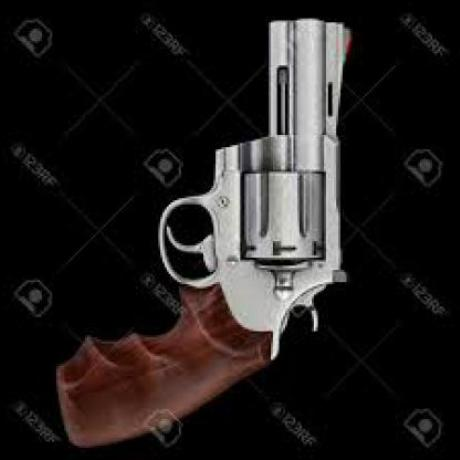weapon: (55, 11, 373, 433)
